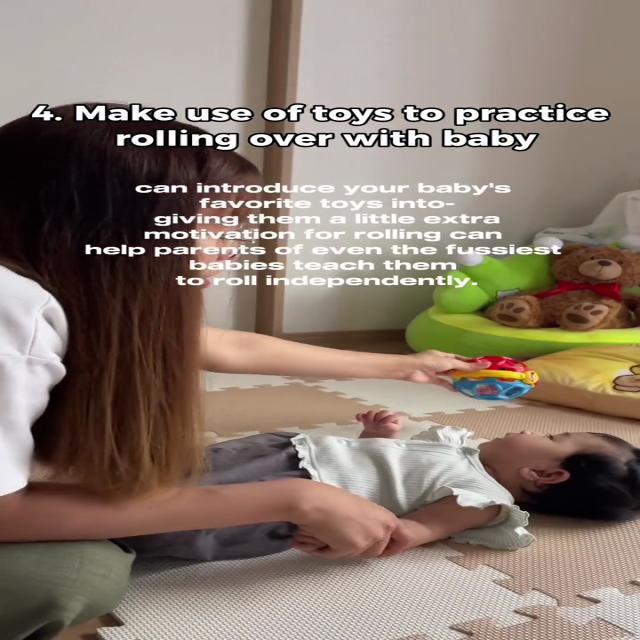baby: (71, 404, 640, 572)
